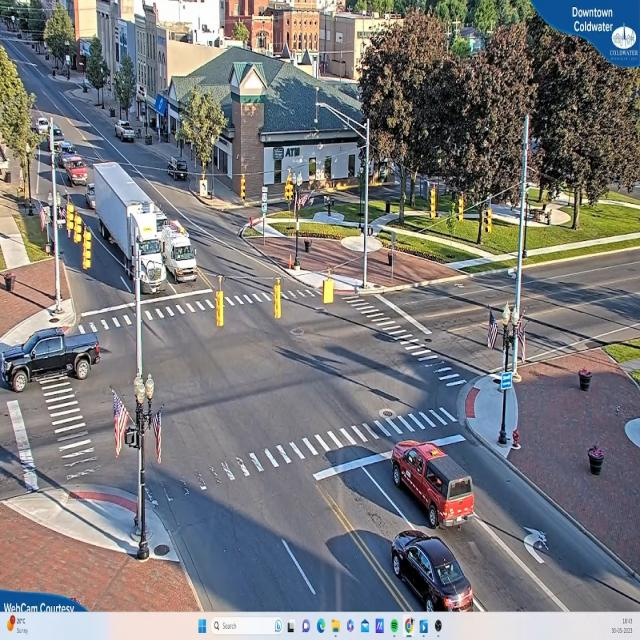car: (392, 439, 477, 530), (392, 528, 480, 610), (1, 328, 104, 392), (62, 154, 90, 186), (117, 122, 137, 144)
truck: (94, 162, 169, 291), (162, 220, 200, 290)
